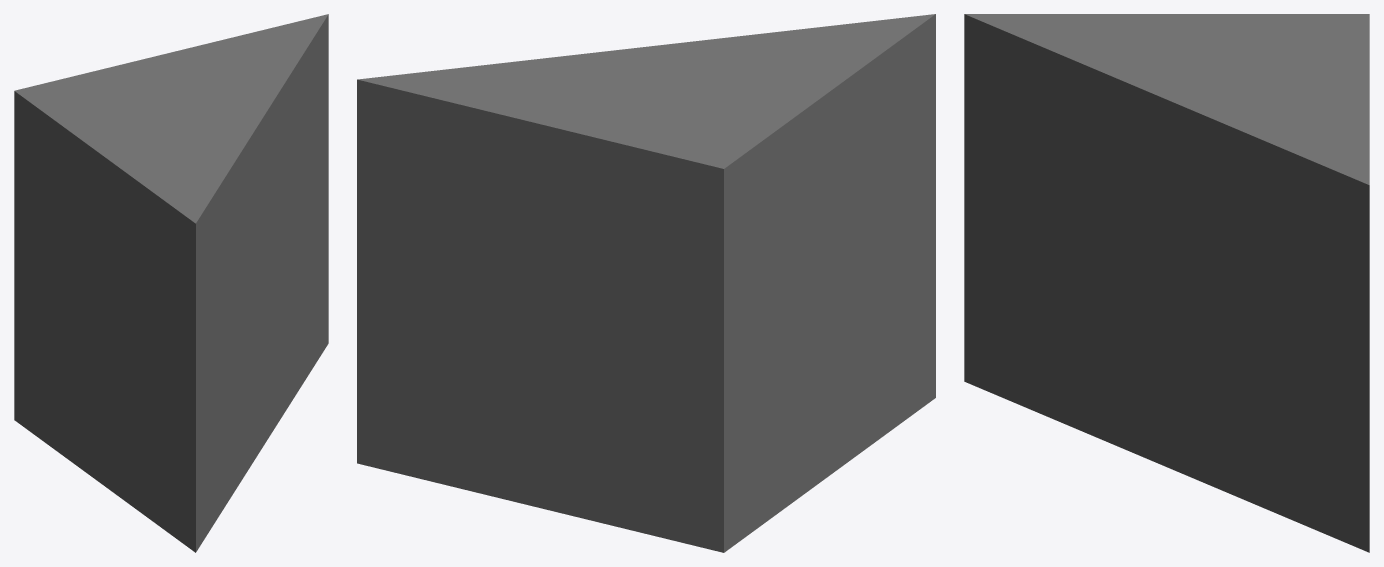
The model's file is Stone_VerticalSlope.glb.
3 renders of one model, left to right at view 1: azimuth 30°, elevation 25°; view 2: azimuth 150°, elevation 25°; view 3: azimuth 270°, elevation 25°, orthographic. The views are drawn at different scales.
Visible parts, largest first — view 1: Stone_VerticalSlope_body; view 2: Stone_VerticalSlope_body; view 3: Stone_VerticalSlope_body.
Part boxes in pixels (x1,y1,x2,y2): Stone_VerticalSlope_body: [14, 14, 328, 552]; Stone_VerticalSlope_body: [357, 14, 935, 552]; Stone_VerticalSlope_body: [964, 14, 1369, 552].
Size of the model in its own units: 1 by 1 by 1.
Materials: 1 (1 with a texture image).
